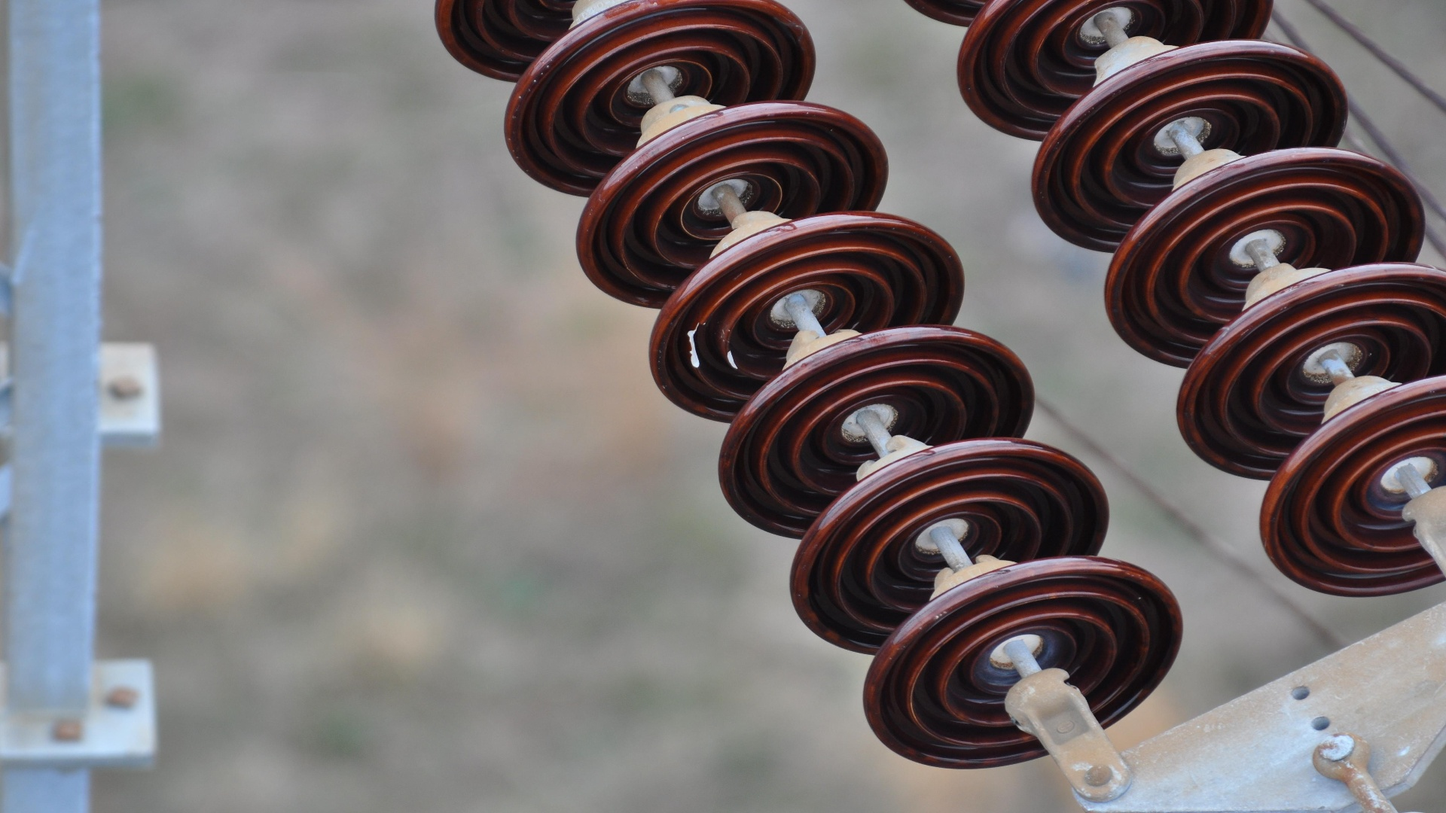insulator: (431, 1, 1189, 781), (898, 1, 1446, 612)
